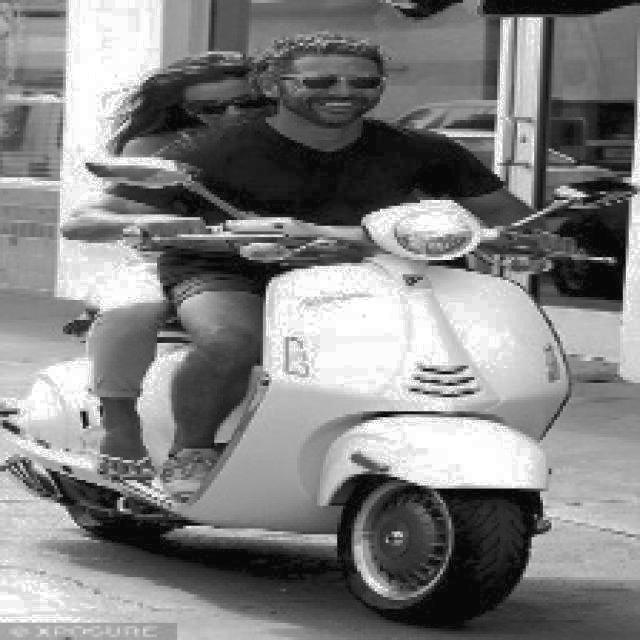Bike: (50, 228, 598, 624)
